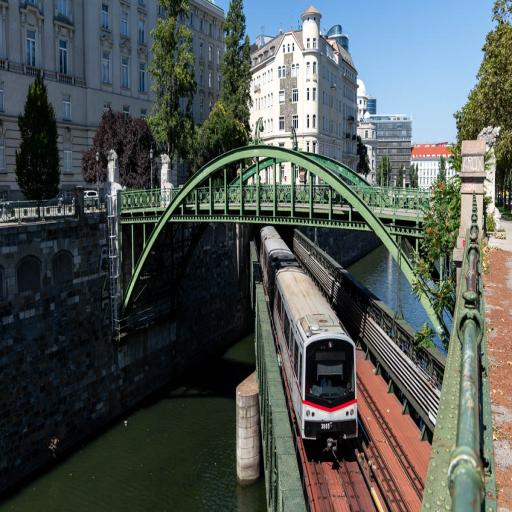V-Wagen: (257, 223, 359, 449)
